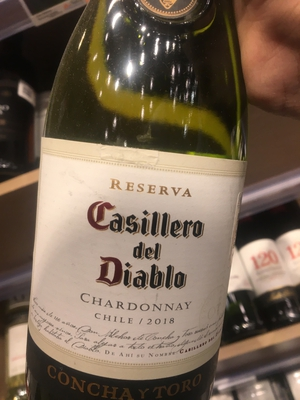casillero del diablo chardonnay: (28, 12, 254, 400)
